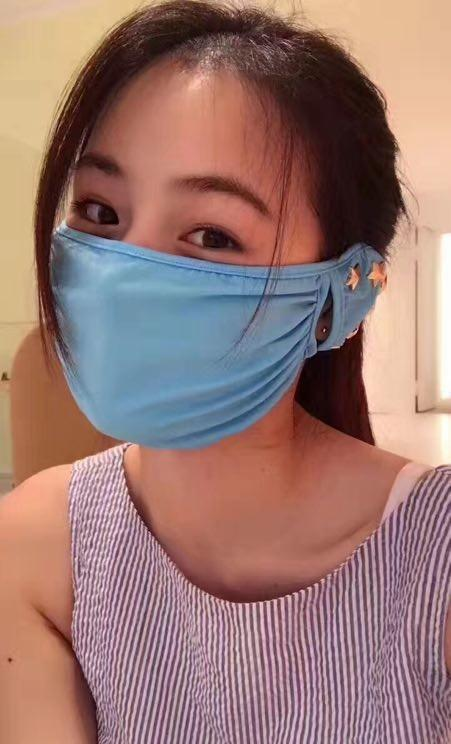OK: (30, 143, 335, 448)
